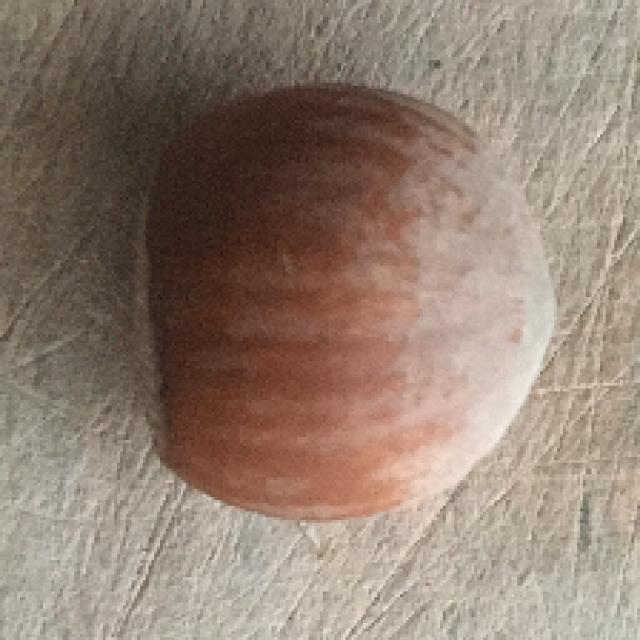qualityHazelnut: (119, 80, 561, 522)
